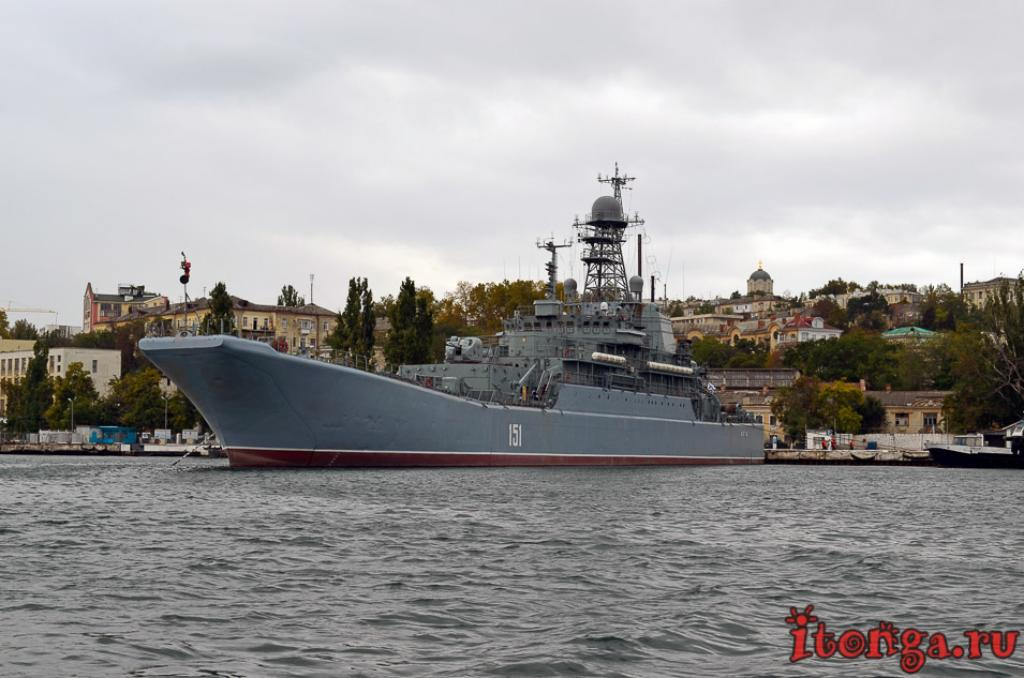PassengerShip: (920, 429, 1024, 469)
